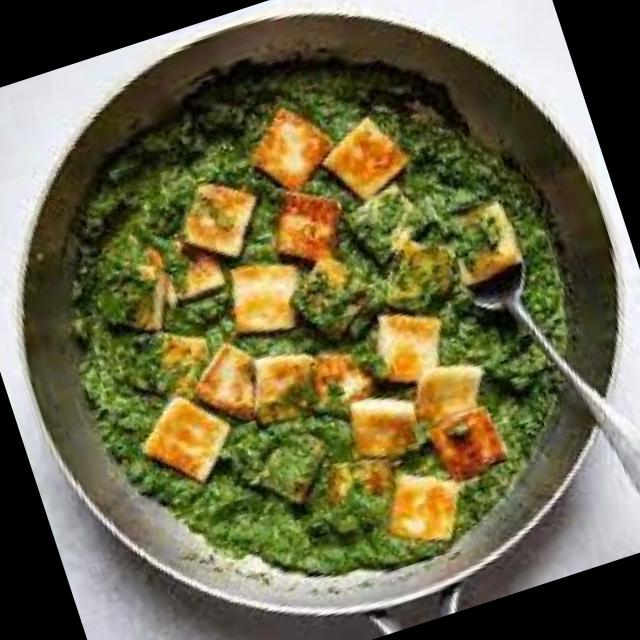palak_paneer: (3, 0, 637, 640)
